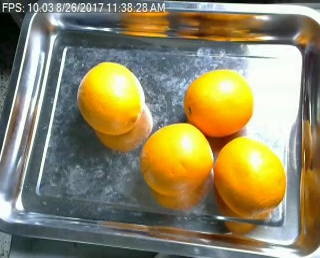Orange: (212, 137, 286, 217), (139, 123, 213, 195), (76, 60, 145, 136), (183, 69, 254, 138)
